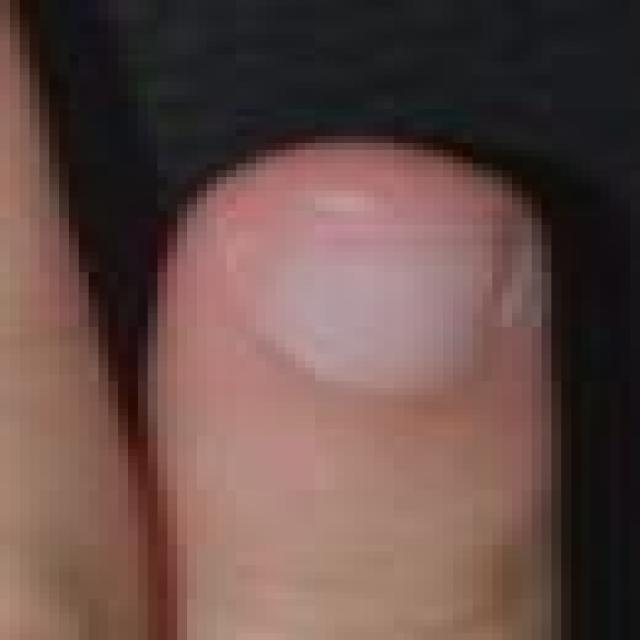Nail: (244, 225, 513, 391)
